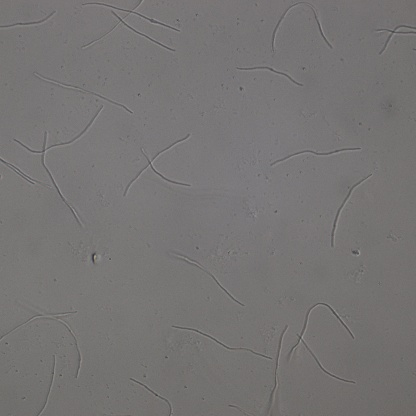Sensitive: (289, 302, 356, 385), (81, 1, 180, 55), (17, 104, 104, 153), (125, 133, 191, 195), (39, 131, 82, 224), (171, 252, 245, 305), (172, 322, 271, 358), (270, 1, 333, 53), (330, 174, 372, 247), (271, 145, 360, 167), (131, 376, 174, 415), (268, 325, 287, 412), (236, 64, 304, 88), (375, 23, 416, 56), (38, 353, 58, 415), (1, 11, 55, 33), (1, 158, 36, 184)
